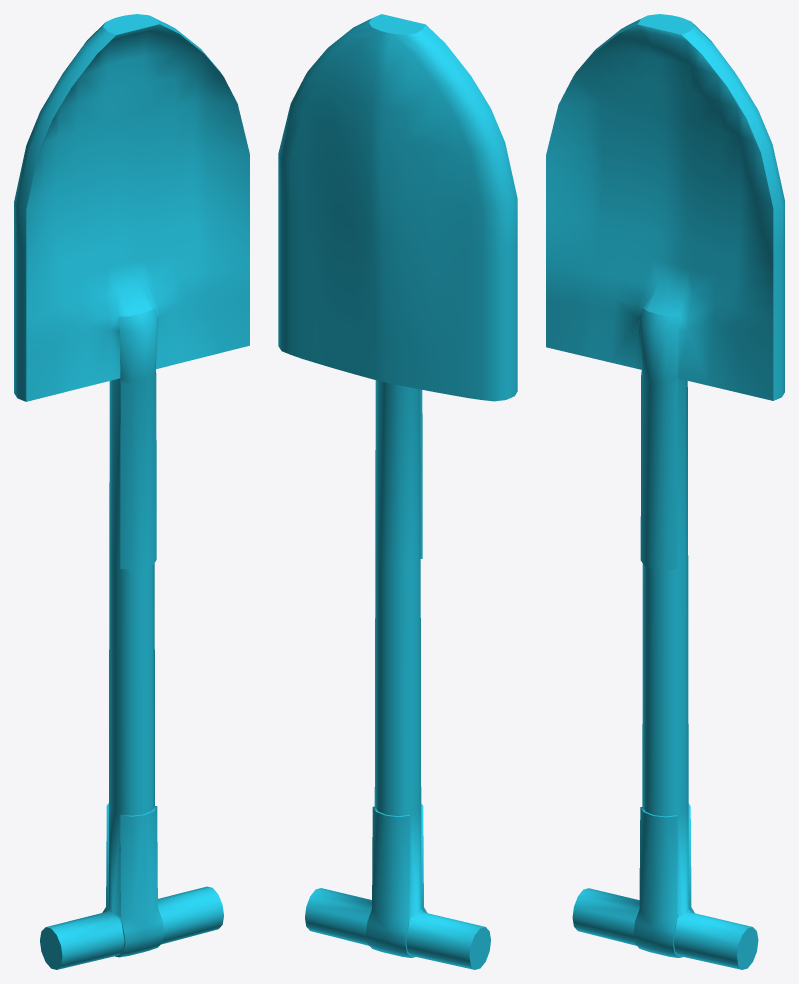
The model's file is Shovel.FBX.
3 renders of one model, left to right at view 1: azimuth 30°, elevation 25°; view 2: azimuth 150°, elevation 25°; view 3: azimuth 330°, elevation 25°, orthographic.
Parts seen in each view (by area): view 1: Cylinder003; view 2: Cylinder003; view 3: Cylinder003.
Part boxes in pixels (left/top/right/bottom): Cylinder003: left=14, top=14, right=249, bottom=969; Cylinder003: left=278, top=14, right=517, bottom=969; Cylinder003: left=546, top=14, right=784, bottom=969.
Bounding box in the file's own units: 26.3 × 101 × 7.04.
